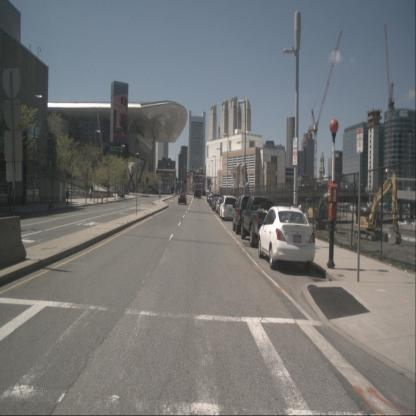human-pedestrian-adult: (66, 188, 70, 203), (89, 186, 92, 202), (108, 188, 110, 197)
movable_object-barrier: (0, 216, 27, 271)
vehicle-car: (258, 206, 315, 269), (232, 195, 260, 234), (220, 195, 238, 221), (218, 200, 233, 216), (216, 198, 228, 213), (212, 196, 223, 212), (211, 194, 220, 208), (178, 192, 187, 205), (209, 194, 217, 206), (207, 192, 214, 202), (194, 189, 200, 198), (197, 189, 202, 198)
vehicle-truck: (241, 196, 282, 247)
